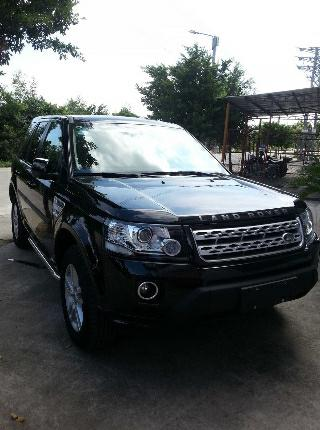MINI-JCWPACEMAN: (19, 111, 320, 334), (24, 124, 306, 347)
